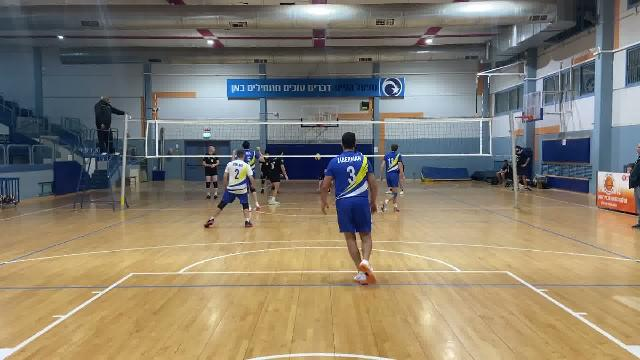ball: (315, 154, 323, 163)
